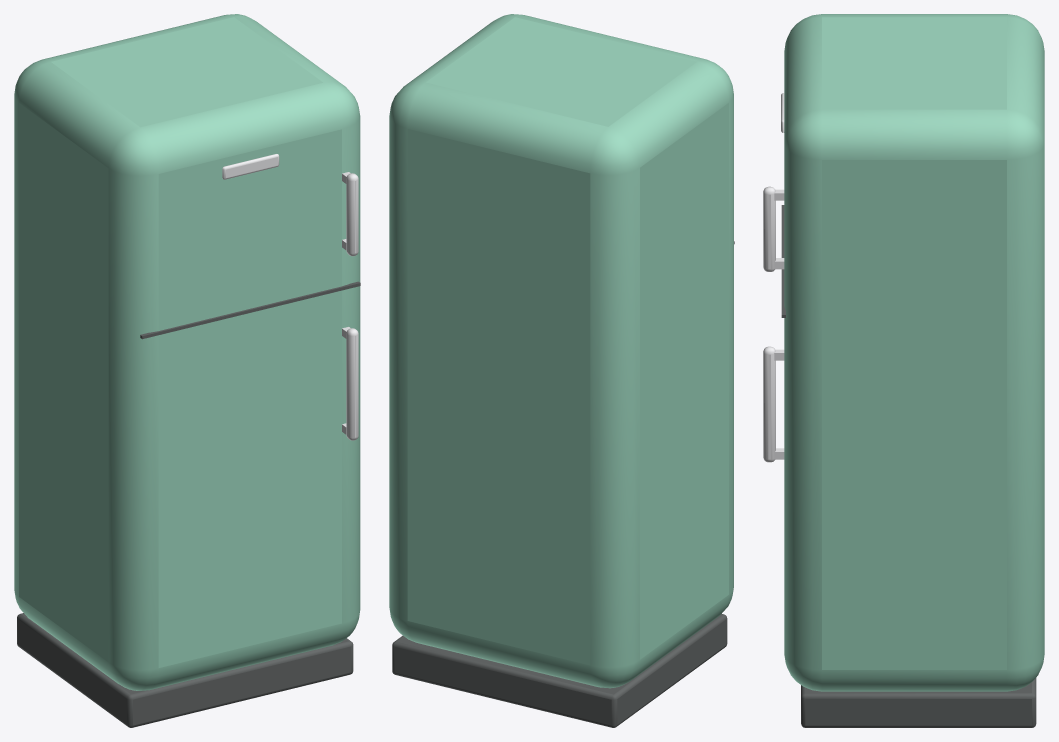
The model's file is retro_fridge.glb.
3 renders of one model, left to right at view 1: azimuth 30°, elevation 25°; view 2: azimuth 150°, elevation 25°; view 3: azimuth 270°, elevation 25°, orthographic. The views are drawn at different scales.
Visible parts, largest first — view 1: mint_enamel, fridge_trim, chrome; view 2: mint_enamel, fridge_trim; view 3: mint_enamel, fridge_trim, chrome.
Boxes of the visible parts, x1=… form: mint_enamel: x1=14, y1=14, x2=360, y2=690; fridge_trim: x1=17, y1=281, x2=360, y2=727; chrome: x1=222, y1=154, x2=358, y2=440; mint_enamel: x1=389, y1=14, x2=733, y2=688; fridge_trim: x1=392, y1=241, x2=734, y2=727; mint_enamel: x1=784, y1=14, x2=1044, y2=691; fridge_trim: x1=781, y1=205, x2=1036, y2=727; chrome: x1=763, y1=93, x2=784, y2=462.
Bounding box in the file's own units: 0.7 × 1.6 × 0.67.
